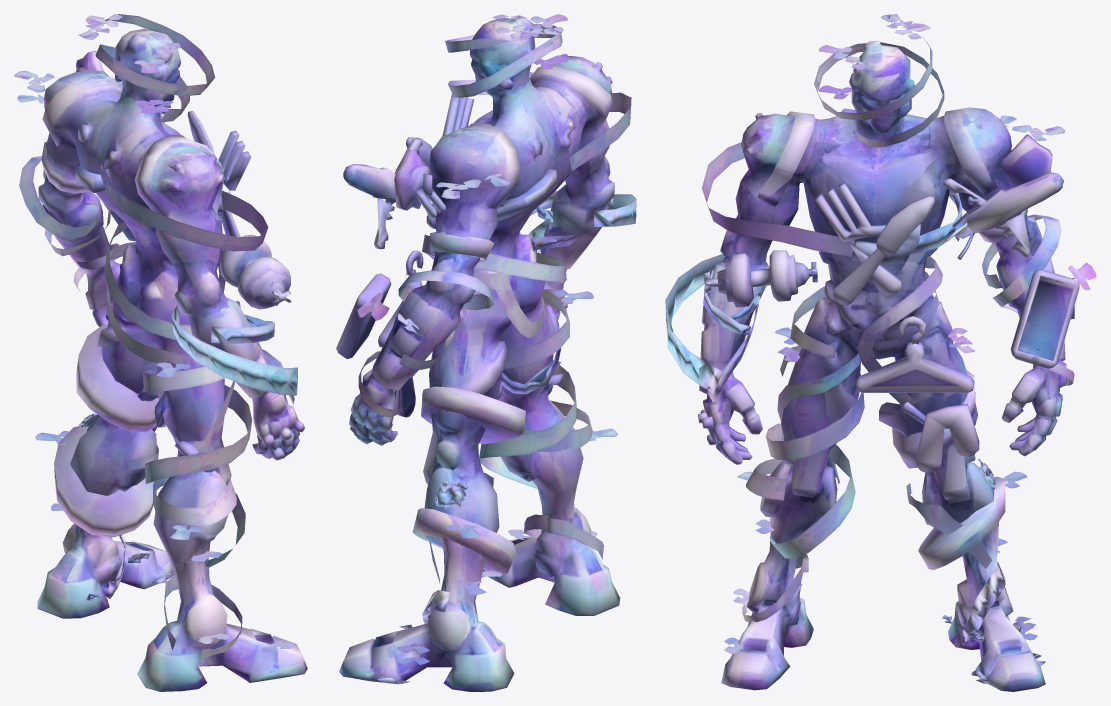
File: generalista.glb
3 views of the same model, side by side, from view 1: azimuth 30°, elevation 25°; view 2: azimuth 150°, elevation 25°; view 3: azimuth 270°, elevation 25° (orthographic). The views are drawn at different scales.
Parts seen in each view (by area): view 1: tripo_node_266c1385-8954-4f0a-a784-d508038435e9; view 2: tripo_node_266c1385-8954-4f0a-a784-d508038435e9; view 3: tripo_node_266c1385-8954-4f0a-a784-d508038435e9.
Part boxes in pixels (bbox=[...]): tripo_node_266c1385-8954-4f0a-a784-d508038435e9: bbox=[14, 14, 307, 691]; tripo_node_266c1385-8954-4f0a-a784-d508038435e9: bbox=[336, 14, 636, 691]; tripo_node_266c1385-8954-4f0a-a784-d508038435e9: bbox=[665, 14, 1096, 691].
Size of the model in its own units: 0.4896 by 1.8 by 1.17.
1 material, 1 textured.
